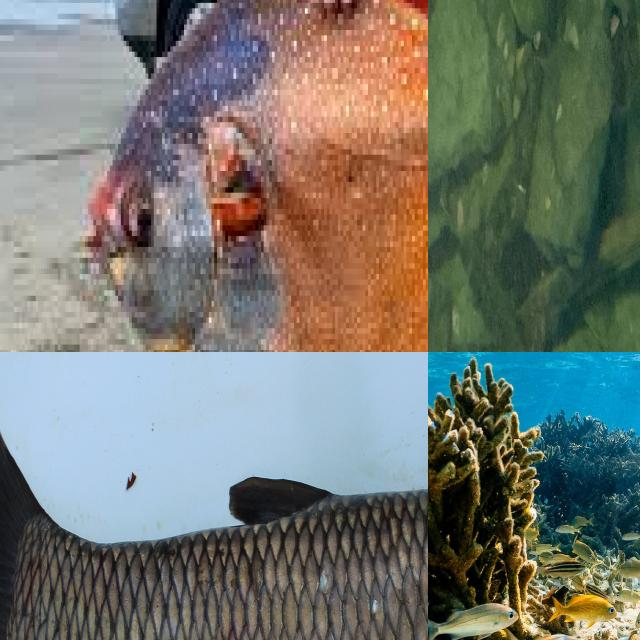fish: (0, 0, 428, 352), (0, 352, 428, 640), (428, 498, 640, 640)
